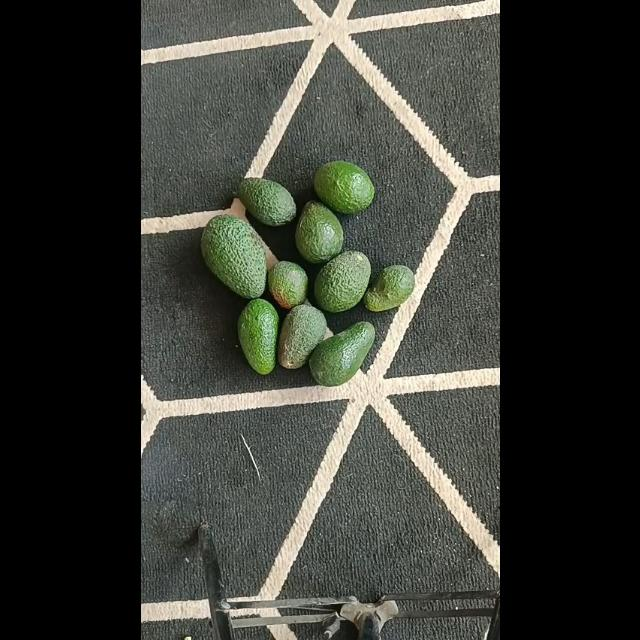Primera: (199, 214, 267, 298)
Segunda: (308, 321, 374, 385), (312, 250, 370, 312), (314, 160, 374, 214), (294, 200, 344, 264), (236, 298, 278, 374)
Tercera: (278, 302, 326, 370), (234, 177, 296, 226), (364, 264, 414, 312), (266, 260, 308, 308)
